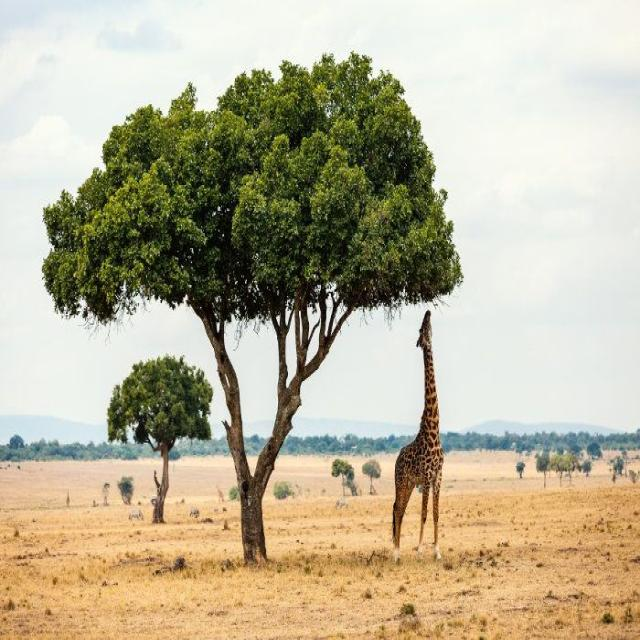Acacia: (59, 70, 393, 543), (101, 354, 211, 524)
